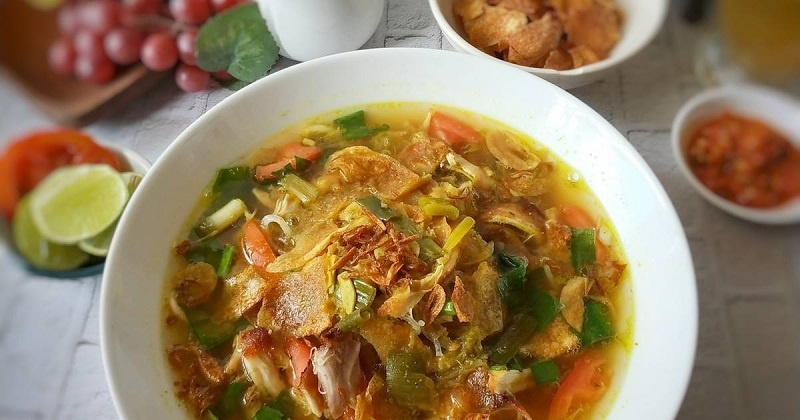soto: (103, 55, 675, 420)
